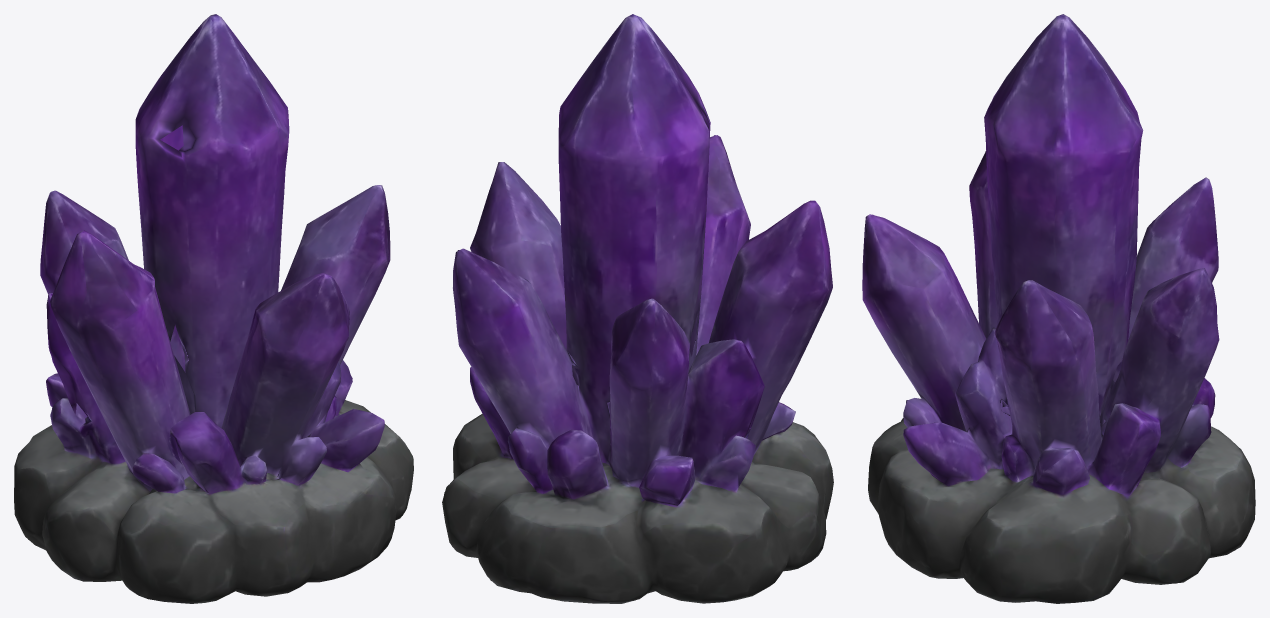
Rendered from crystal_purple.glb.
3 renders of one model, left to right at view 1: azimuth 30°, elevation 25°; view 2: azimuth 150°, elevation 25°; view 3: azimuth 270°, elevation 25°, orthographic.
Visible parts, largest first — view 1: geometry_0; view 2: geometry_0; view 3: geometry_0.
Part boxes in pixels (x1,y1,x2,y2): geometry_0: (14,14,413,603); geometry_0: (442,14,833,603); geometry_0: (862,14,1255,603).
Size of the model in its own units: 0.7168 by 0.9987 by 0.6973.
Materials: 1 (1 with a texture image).
